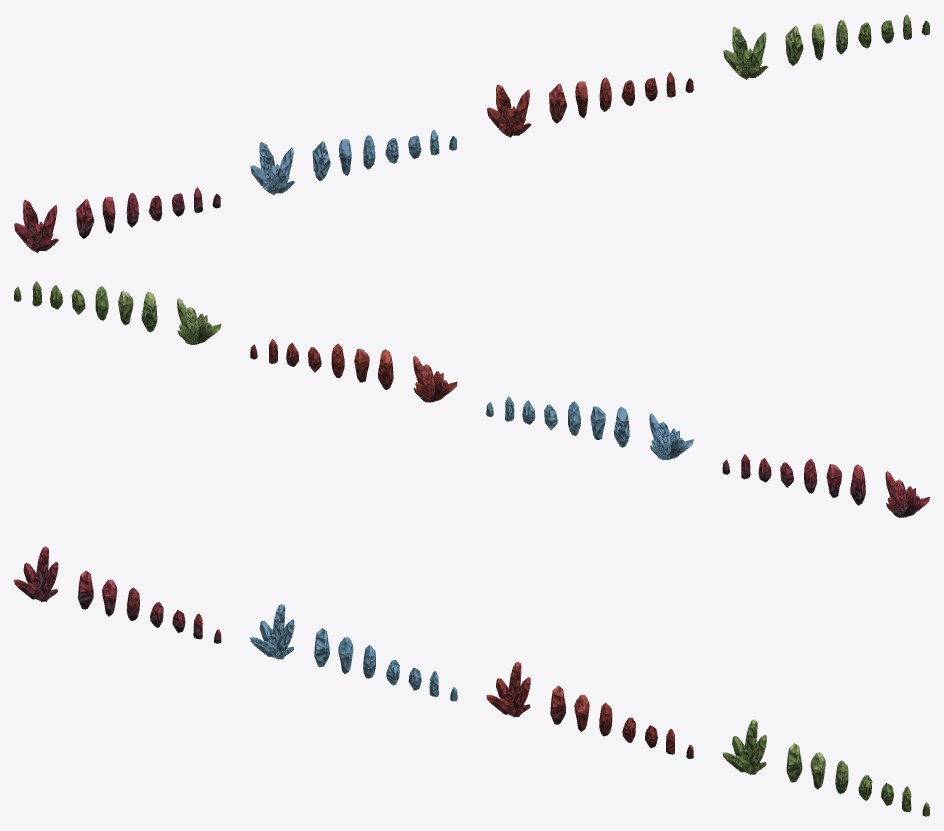
File: Gems.fbx
3 views of the same model, one above another, from view 1: azimuth 30°, elevation 25°; view 2: azimuth 150°, elevation 25°; view 3: azimuth 330°, elevation 25° (orthographic).
Parts seen in each view (by area): view 1: Gems_02, Gems_04, Gems_03, Gems_01; view 2: Gems_01, Gems_02, Gems_04, Gems_03; view 3: Gems_04, Gems_01, Gems_02, Gems_03.
Part boxes in pixels (x1=…): Gems_02: x1=250, y1=129, x2=456, y2=194; Gems_04: x1=723, y1=14, x2=929, y2=79; Gems_03: x1=487, y1=72, x2=693, y2=137; Gems_01: x1=14, y1=187, x2=220, y2=252; Gems_01: x1=722, y1=454, x2=929, y2=517; Gems_02: x1=486, y1=396, x2=693, y2=460; Gems_04: x1=14, y1=281, x2=221, y2=344; Gems_03: x1=250, y1=339, x2=457, y2=402; Gems_04: x1=722, y1=719, x2=929, y2=816; Gems_01: x1=14, y1=546, x2=221, y2=643; Gems_02: x1=250, y1=604, x2=457, y2=701; Gems_03: x1=486, y1=662, x2=693, y2=758.
Bounding box in the file's own units: 25.68 × 1.21 × 1.03.
Materials: 4 (4 with a texture image).
